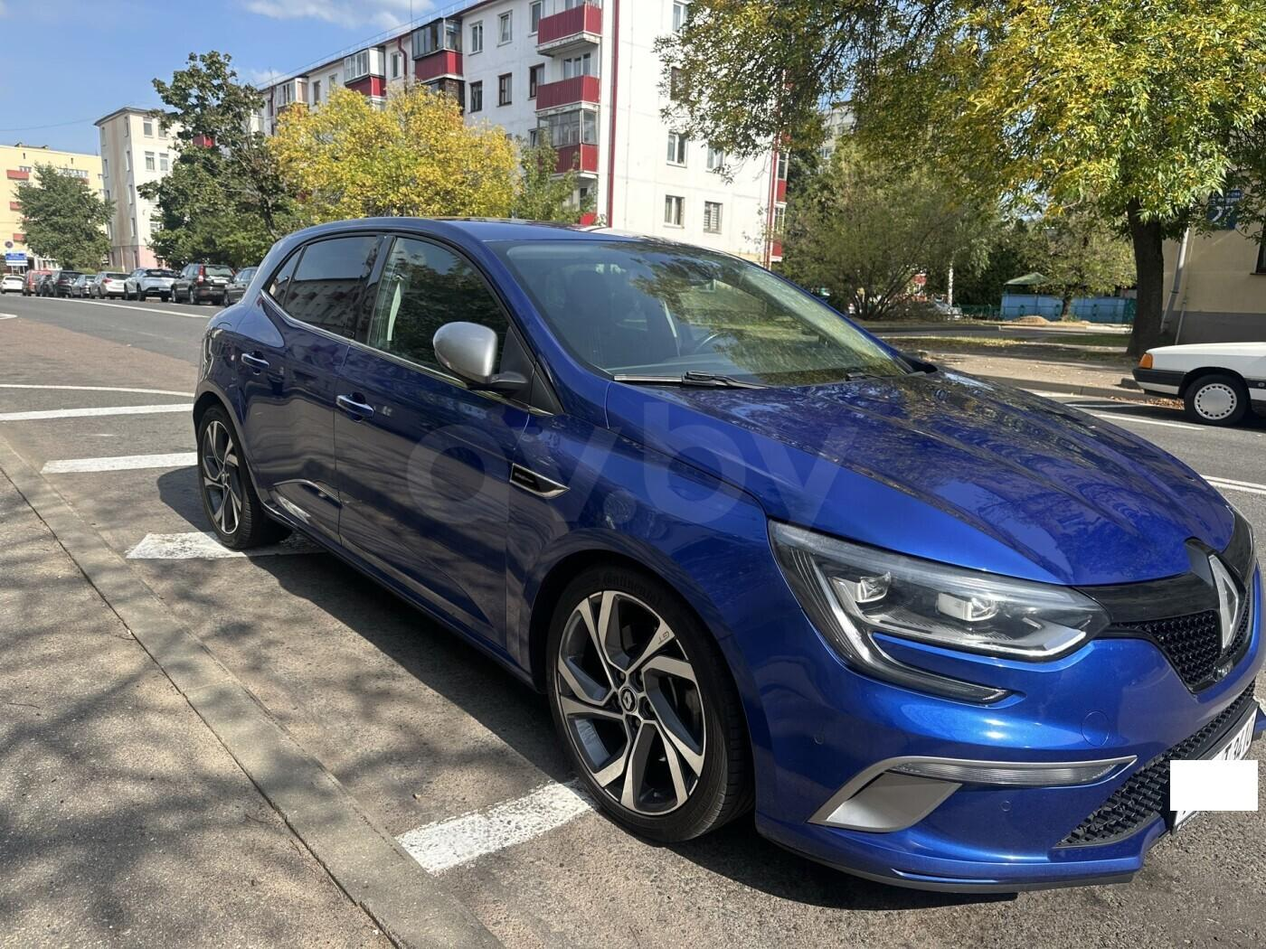Megane_2016-2020: (194, 209, 1266, 893)
